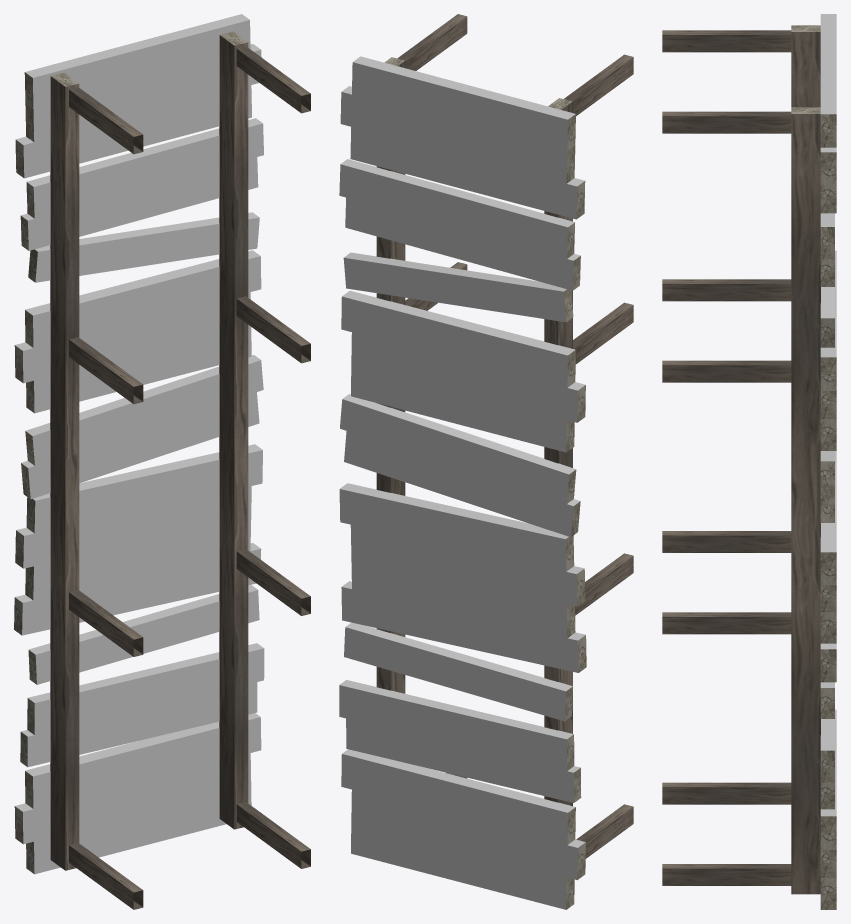
The model's file is Deck_C.fbx.
The picture shows the model from 3 angles, left to right: view 1: azimuth 30°, elevation 25°; view 2: azimuth 150°, elevation 25°; view 3: azimuth 270°, elevation 25°; orthographic projection.
Visible parts, largest first — view 1: Deck_C; view 2: Deck_C; view 3: Deck_C.
Part boxes in pixels (x1=…): Deck_C: x1=14, y1=14, x2=310, y2=909; Deck_C: x1=339, y1=14, x2=633, y2=909; Deck_C: x1=662, y1=14, x2=836, y2=909.
Bounding box in the file's own units: 3.54 × 11.21 × 2.22.
